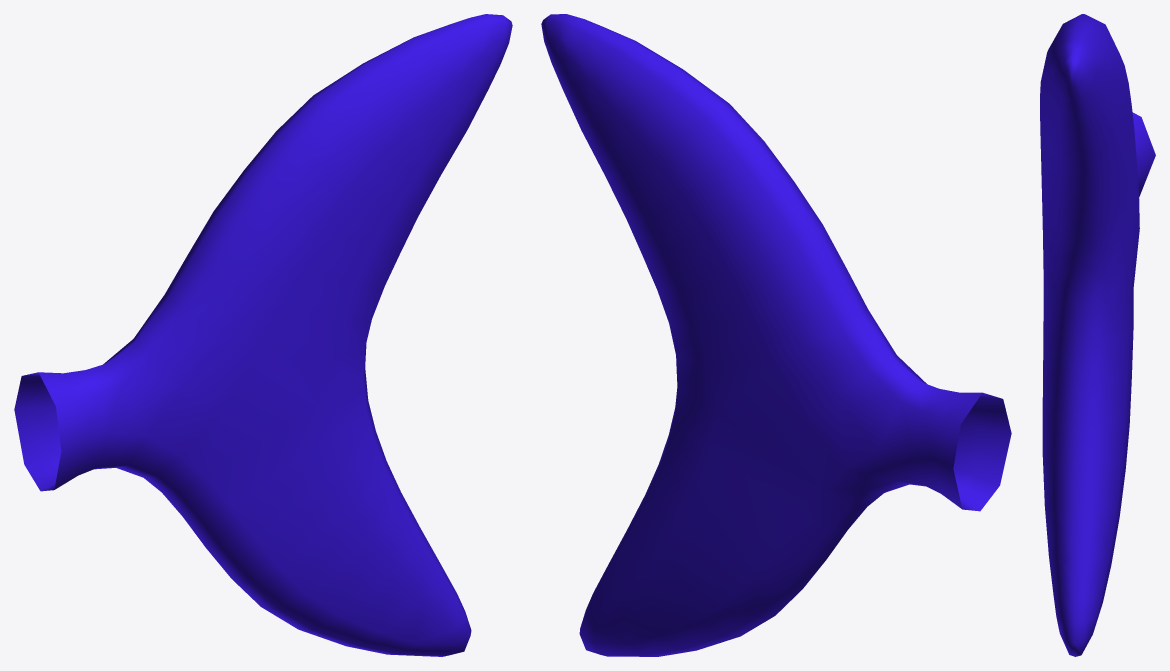
The model's file is queue_fish_blue.glb.
3 views of the same model, side by side, from view 1: azimuth 30°, elevation 25°; view 2: azimuth 150°, elevation 25°; view 3: azimuth 270°, elevation 25° (orthographic).
Visible parts, largest first — view 1: Model.010; view 2: Model.010; view 3: Model.010.
Part boxes in pixels (box(x1,y1,x2,y2)): Model.010: box(14, 14, 512, 656); Model.010: box(541, 14, 1011, 656); Model.010: box(1040, 14, 1155, 656).
Bounding box in the file's own units: 0.2182 × 0.2872 × 0.0483.
